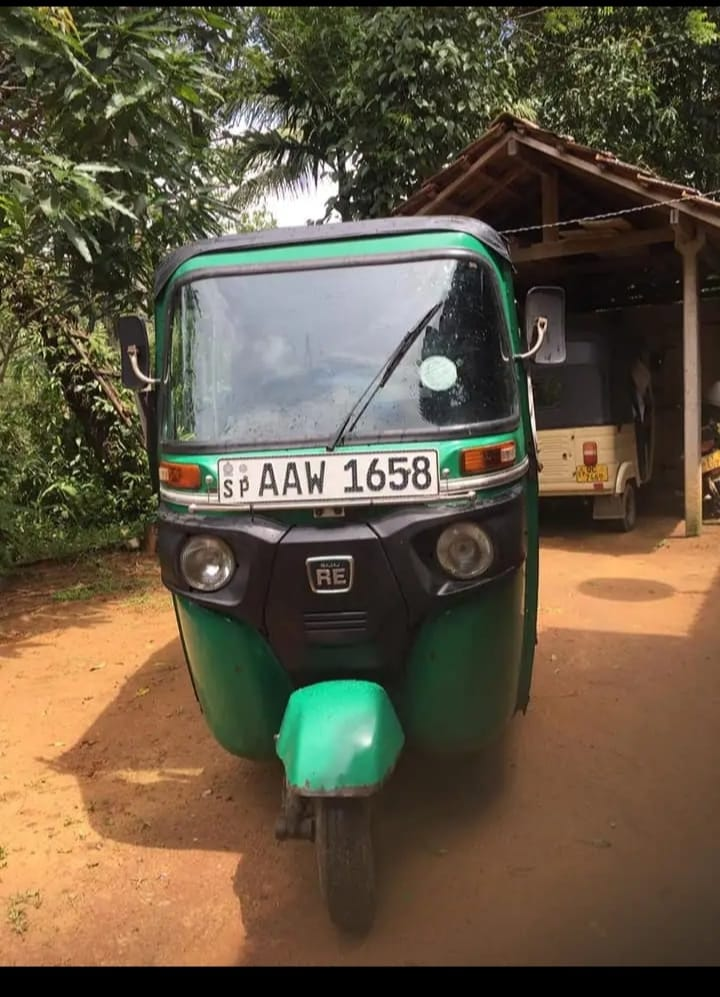number_plate: (217, 460, 438, 500)
